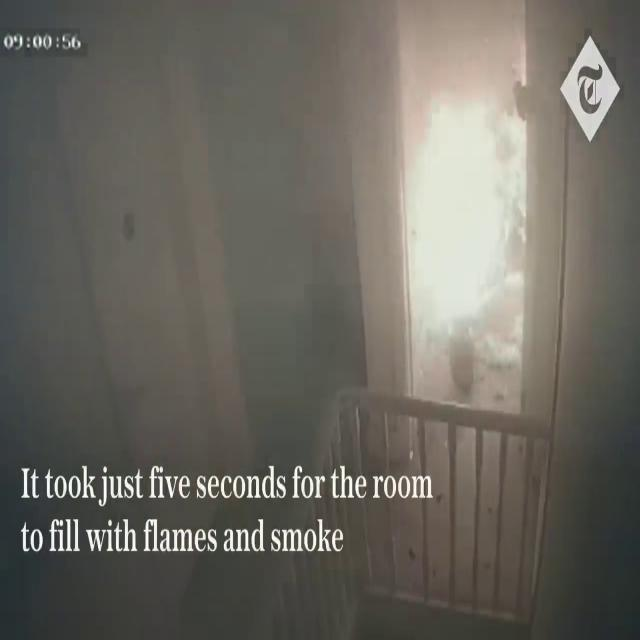Fire: (399, 91, 509, 342)
Smoke: (1, 0, 413, 470)
